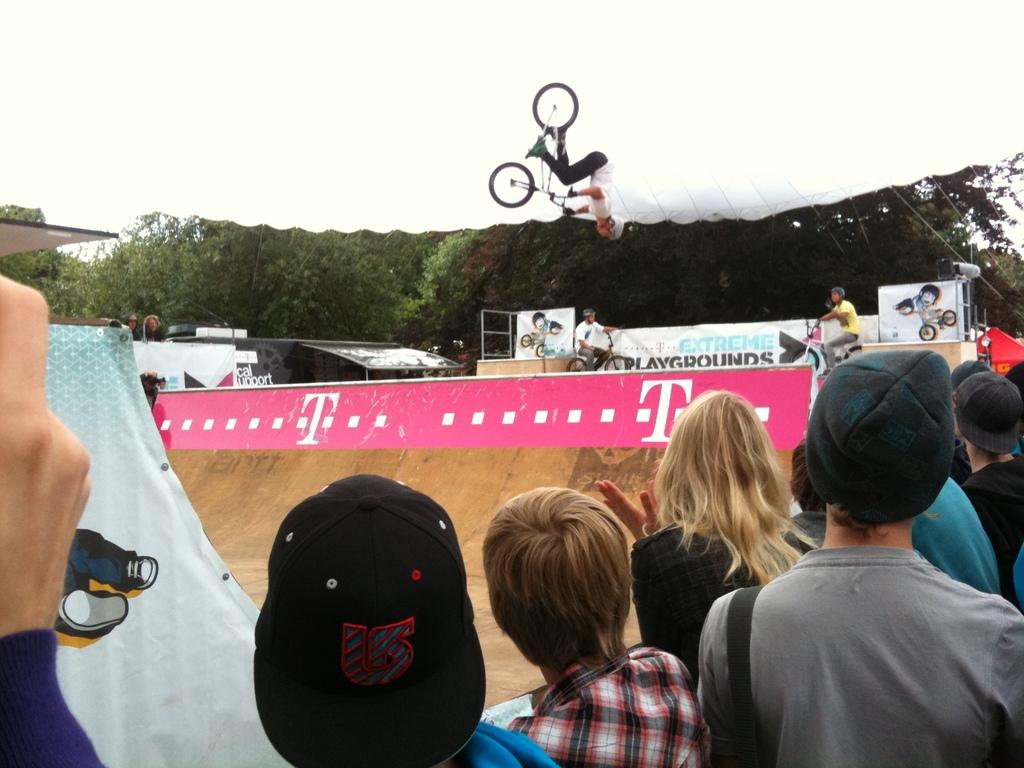Hat: (242, 464, 486, 767), (788, 359, 968, 525), (952, 366, 1023, 454)
